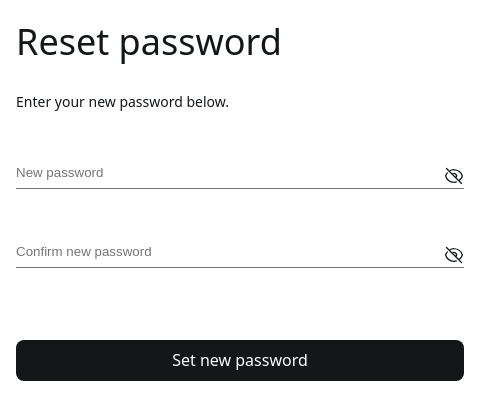
Test: Feature: ResetPasswordPage › shows success state after successful password reset
The width and height of the screenshot is (481, 398).
Type "Strongpass1!" into the password field with placeholder "New password" at point(240, 176), box [16,164,464,189]
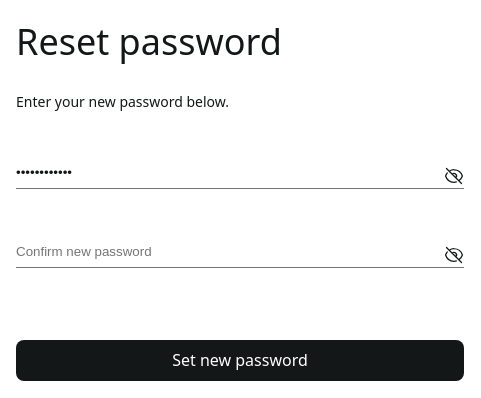
Type "Strongpass1!" into the password field with placeholder "Confirm new password" at point(240, 255), box [16,243,464,268]
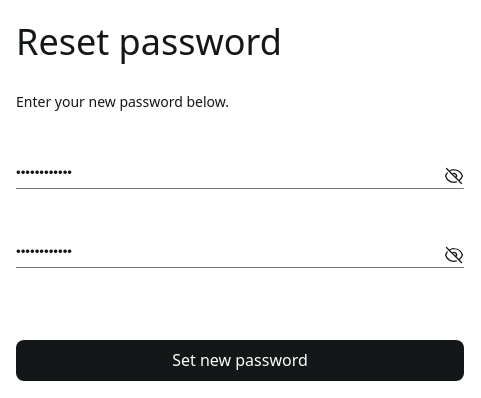
Click the button "Set new password" at point(240, 360), box [16,340,464,381]
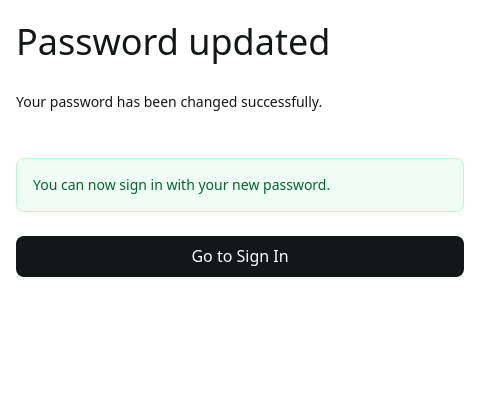
expect the heading "Password updated" is shown: met, box [16,17,330,66]
expect the button "Go to Sign In" is shown: met, box [16,236,464,277]
